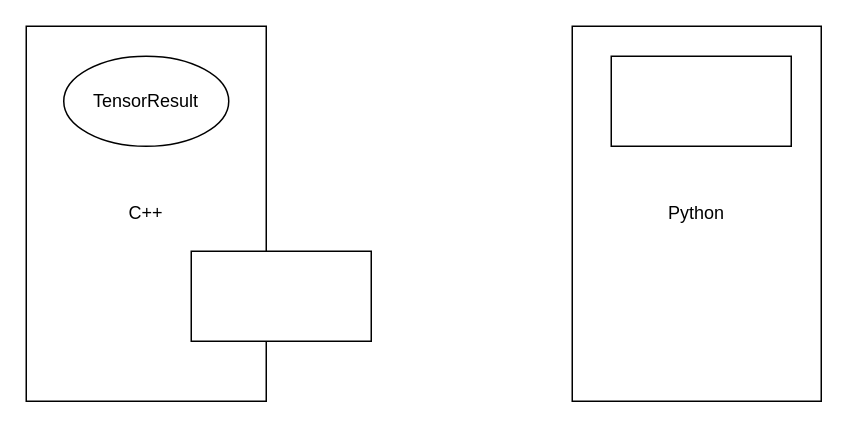
Image size: 848x428. Some labels were removed from this diagram. The shapes that lost their labels are listed below. From the top down, each one's centre as x and y in pixels, then its label:
point 700,100: DLpack
point 280,295: bindings
